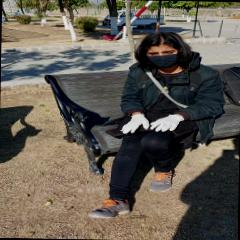gloved: (150, 114, 184, 132), (120, 114, 150, 134)
